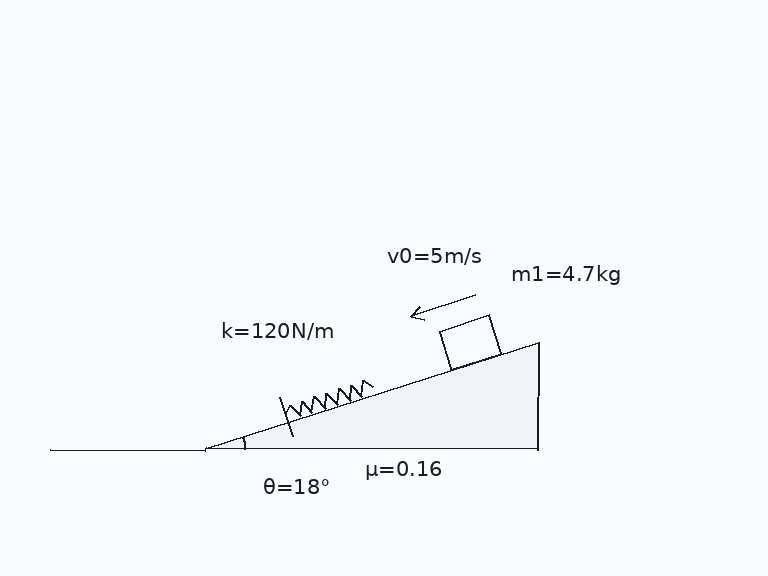block: (436, 314, 503, 371)
ramp: (203, 339, 540, 451)
spring: (283, 379, 374, 418)
